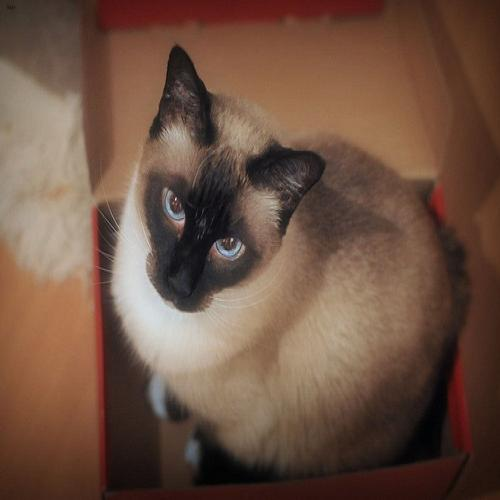siamese: (133, 33, 321, 344)
